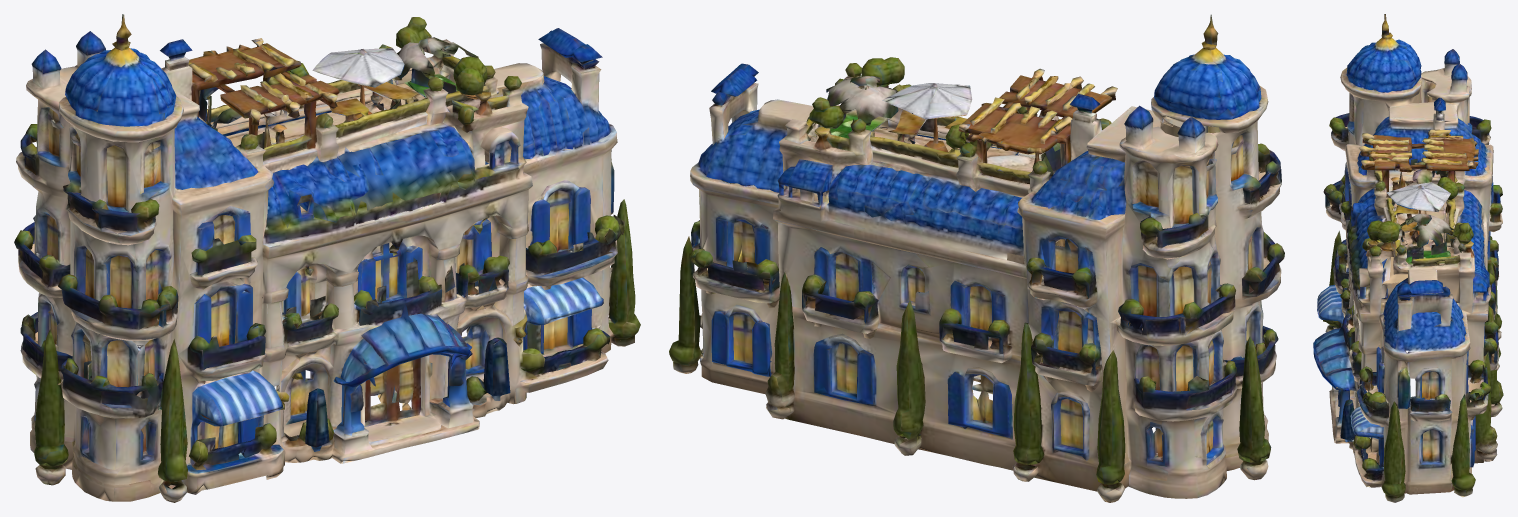
The picture shows the model from 3 angles, left to right: view 1: azimuth 30°, elevation 25°; view 2: azimuth 150°, elevation 25°; view 3: azimuth 270°, elevation 25°; orthographic projection. The views are drawn at different scales.
Parts seen in each view (by area): view 1: harbor__skyscraper_3__native_mobile; view 2: harbor__skyscraper_3__native_mobile; view 3: harbor__skyscraper_3__native_mobile.
Part boxes in pixels (x1,y1,x2,y2): harbor__skyscraper_3__native_mobile: (14,14,640,502); harbor__skyscraper_3__native_mobile: (669,14,1284,502); harbor__skyscraper_3__native_mobile: (1313,14,1503,502).
Bounding box in the file's own units: 1 × 0.7513 × 0.4021.
1 material, 1 textured.
